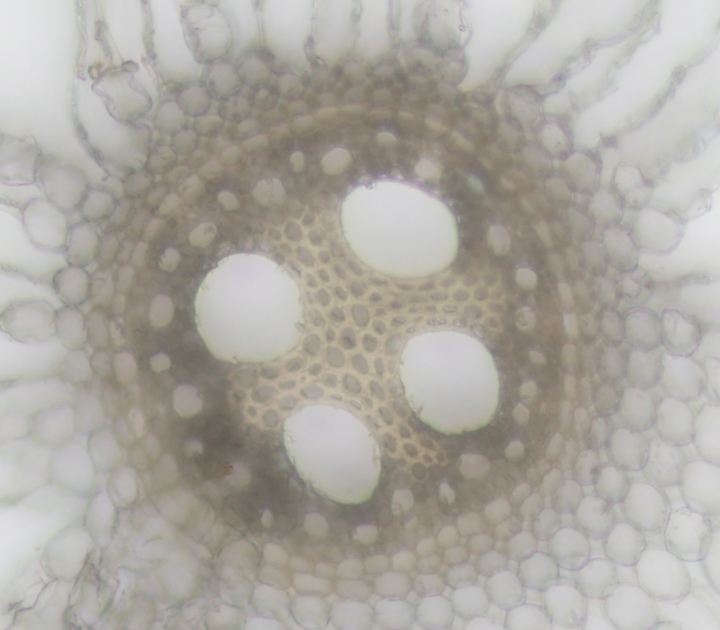lm: (193, 252, 306, 364), (340, 179, 459, 277), (400, 330, 501, 435), (283, 404, 382, 505)
